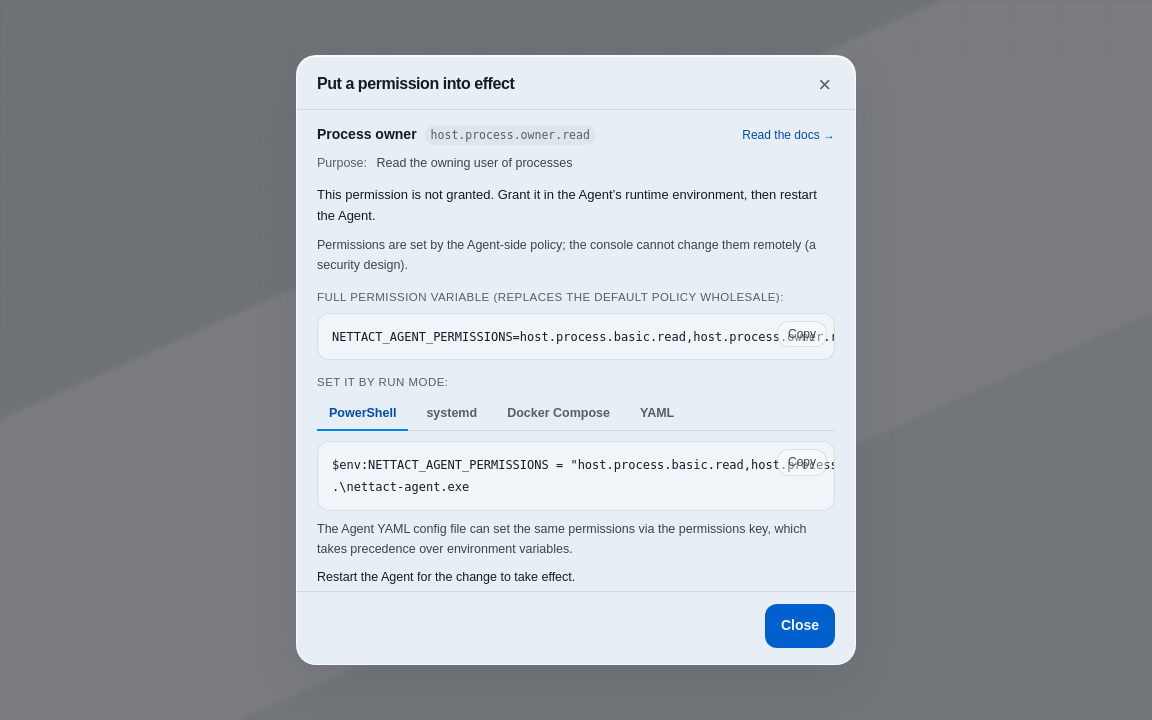
PermissionRemediationDialog › renders the full env line and per run-mode snippets for a permission_blocked permission
Click the tab "systemd".
click(452, 415)  # box [414,398,489,431]
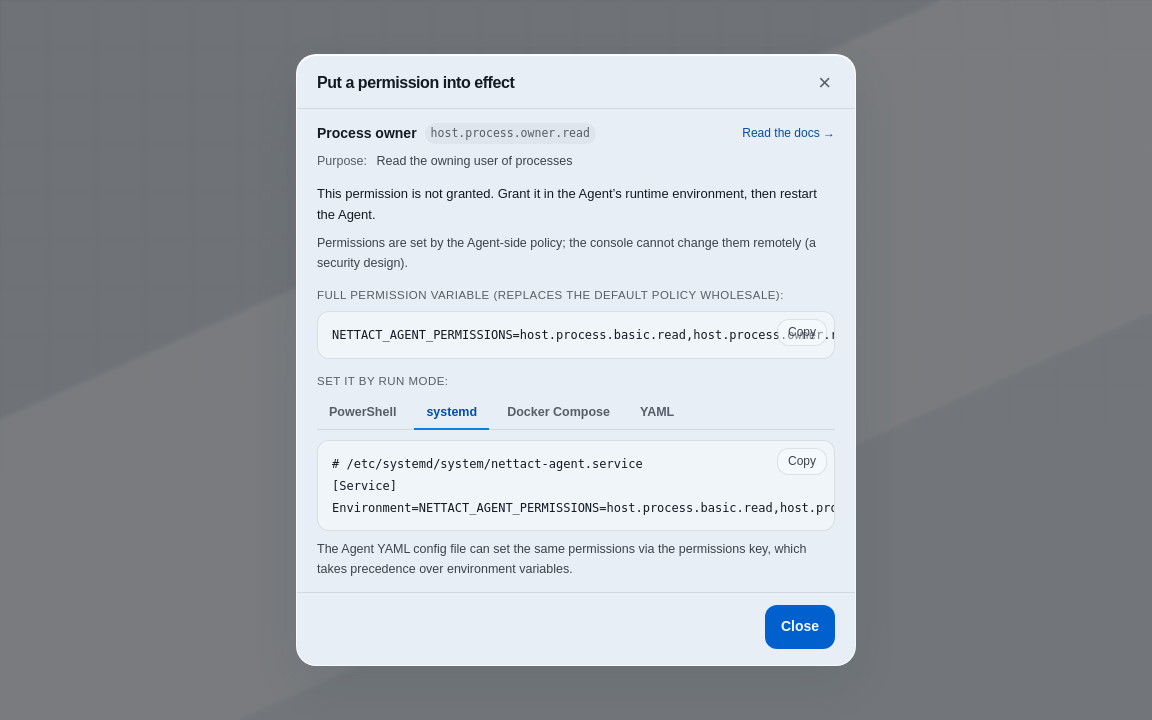
expect the text "Environment=NETTACT_AGENT_PERMISSIONS=host.process.basic.read,host.process.owner.read" is shown: met, box [332,457,835,514]
Click the tab "Docker Compose".
click(558, 414)  # box [495,397,622,430]
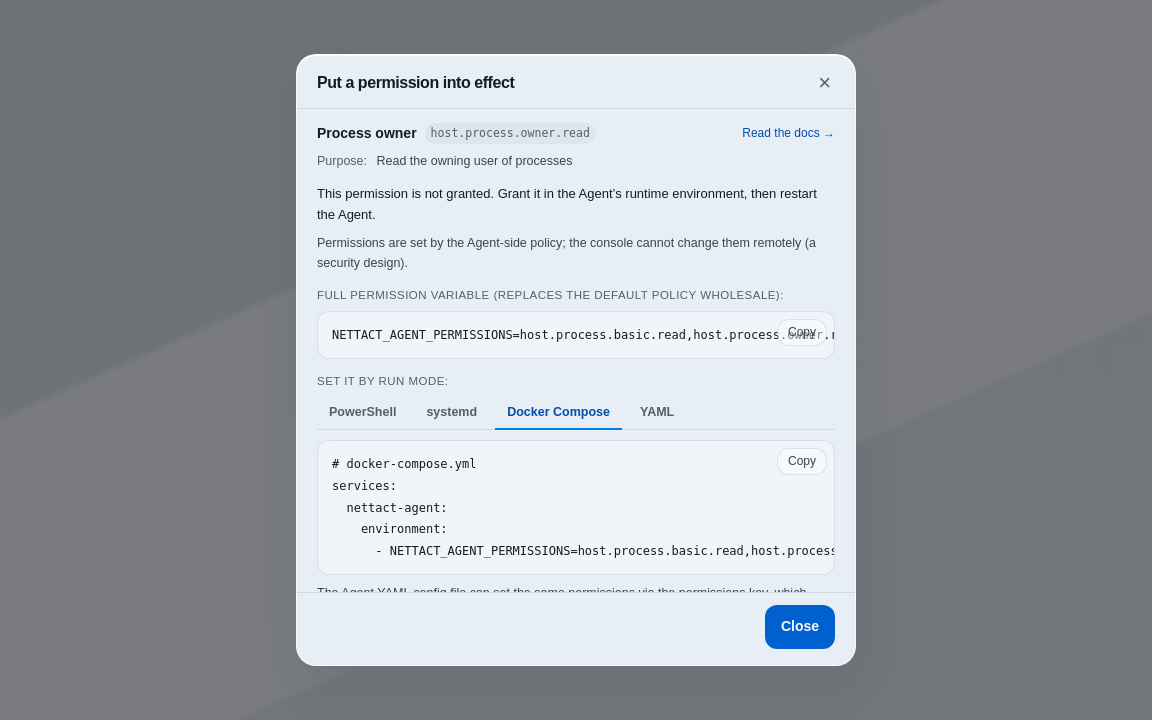
expect the text "- NETTACT_AGENT_PERMISSIONS=host.process.basic.read,host.process.owner.read" is shown: met, box [332,457,835,558]
Click the tab "YAML".
click(657, 414)  # box [628,397,686,430]
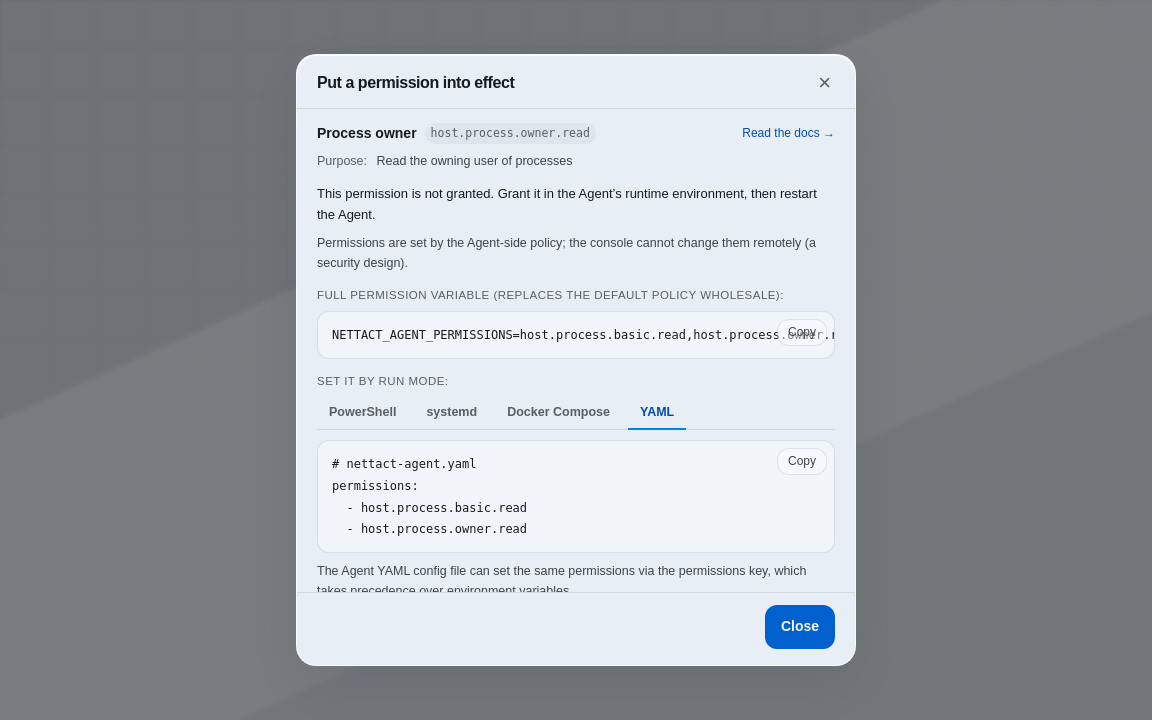
expect the text "permissions:" is shown: met, box [332,457,527,536]
expect the text "- host.process.basic.read" is shown: met, box [332,457,527,536]
expect the text "- host.process.owner.read" is shown: met, box [332,457,527,536]
